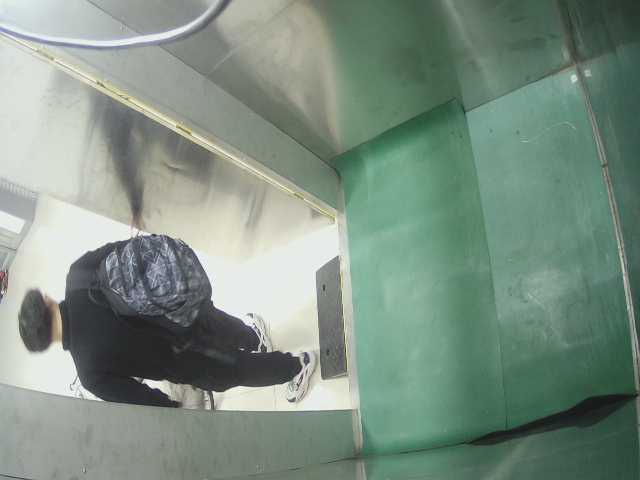bag: (87, 229, 226, 338)
person: (35, 247, 315, 412)
